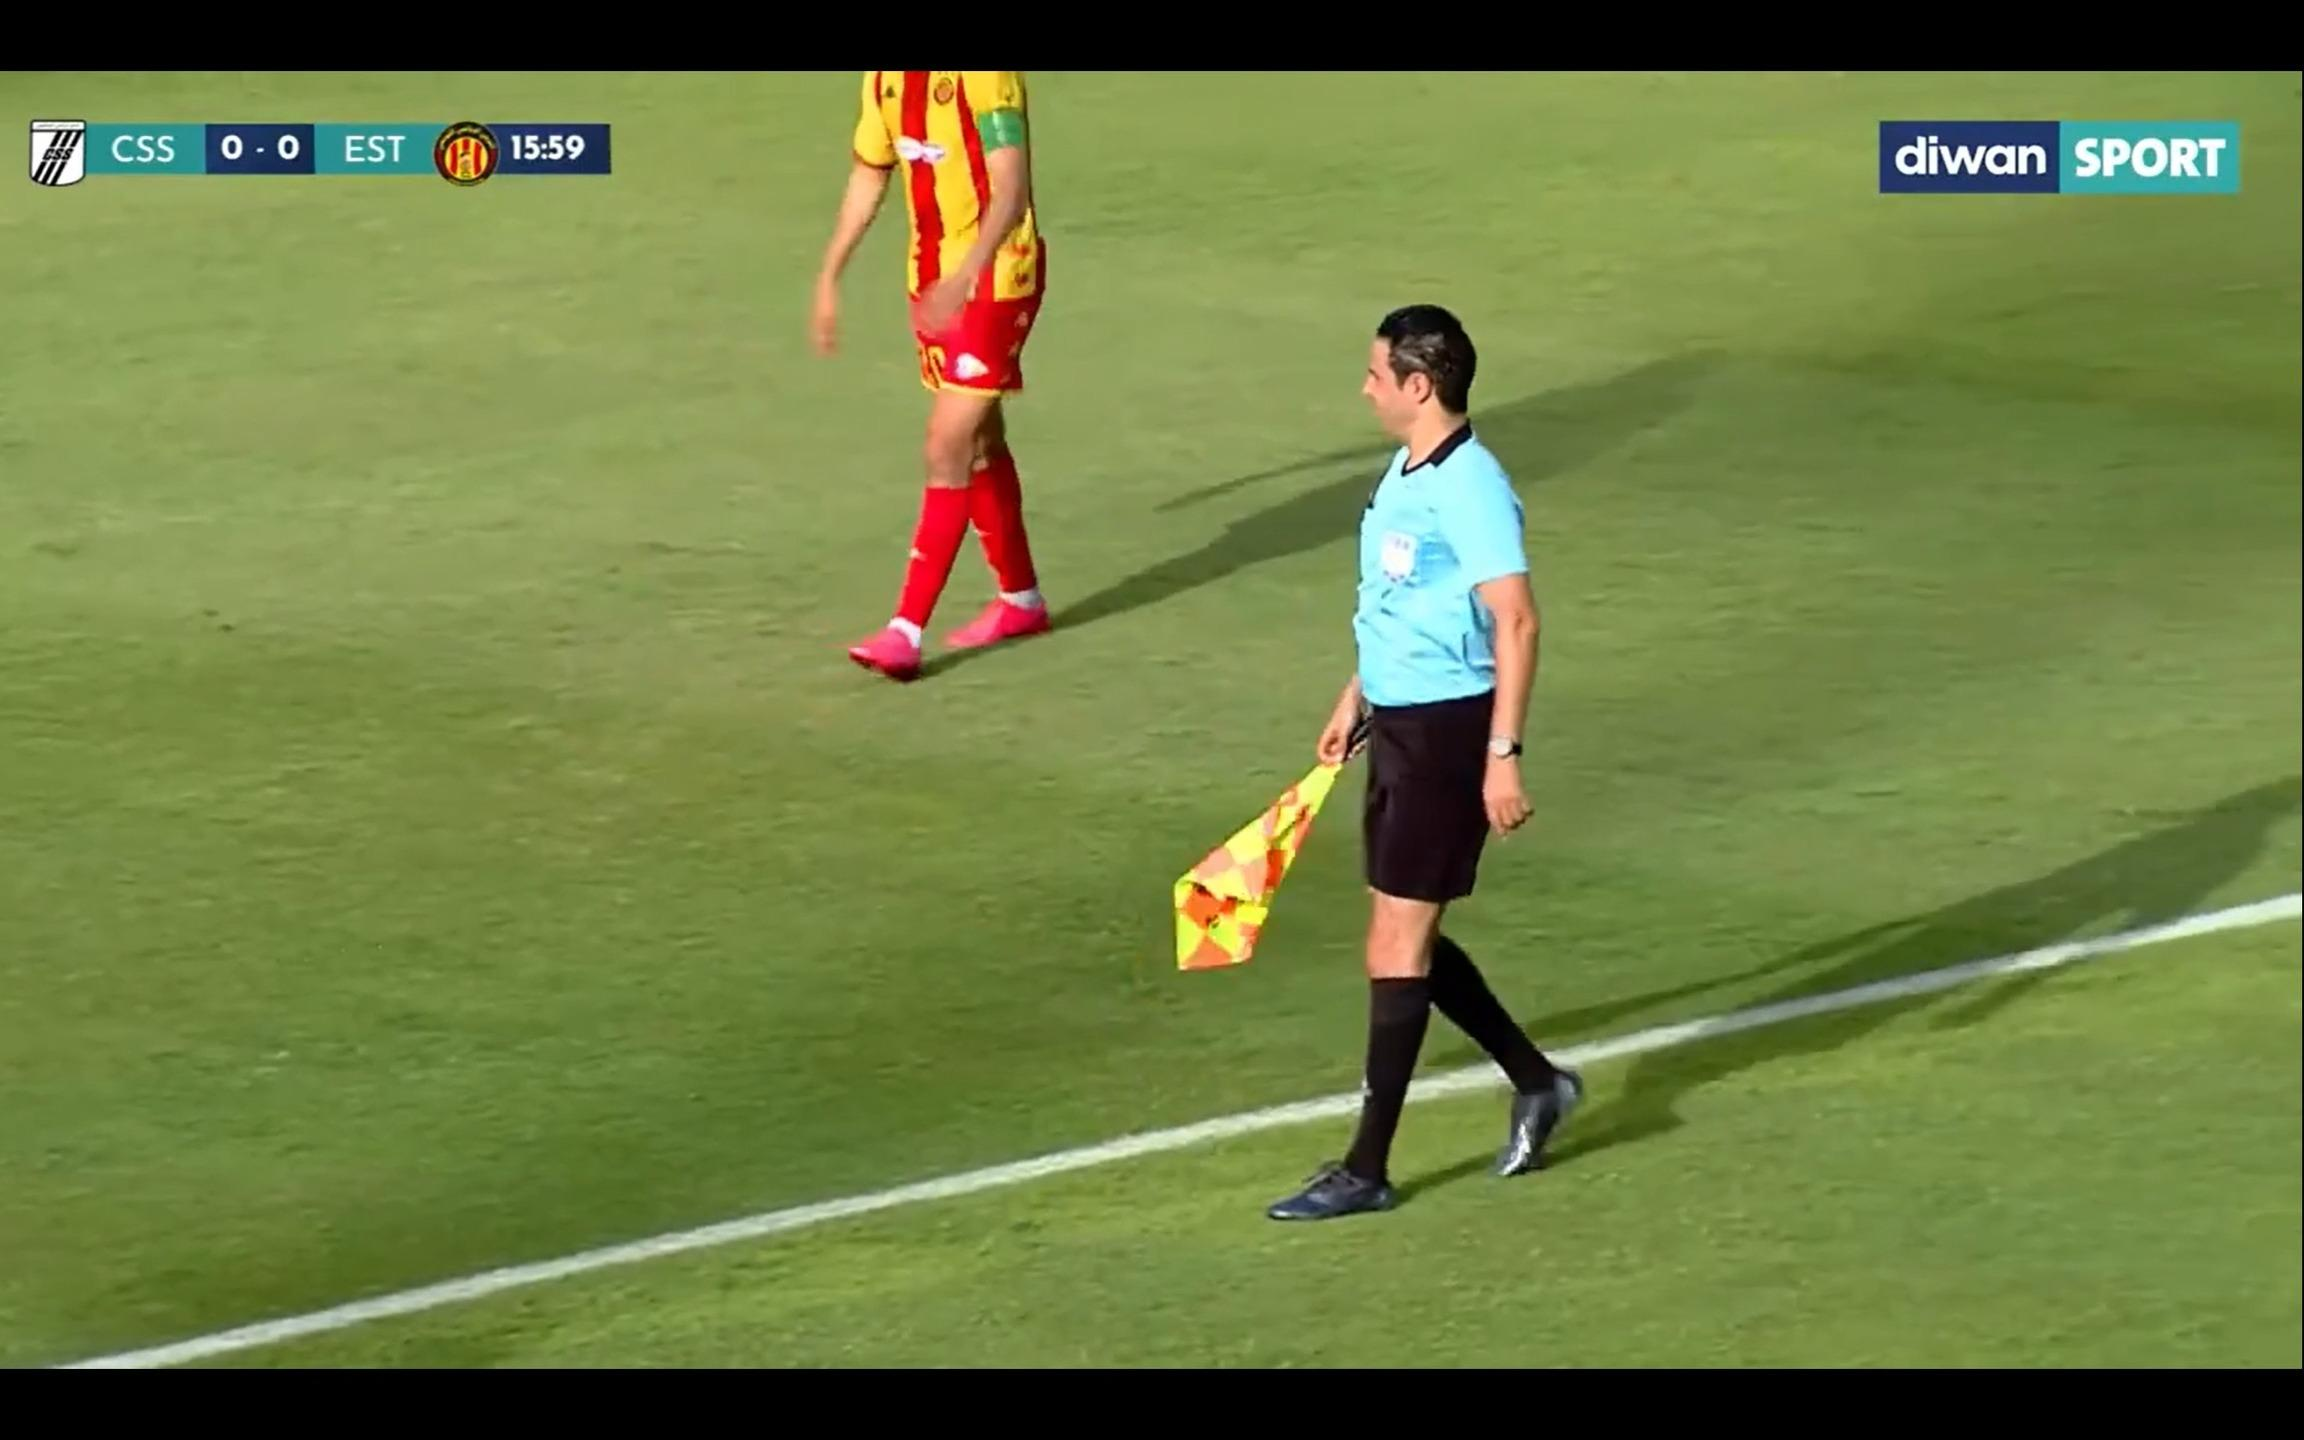referee: (1209, 285, 1695, 1309)
